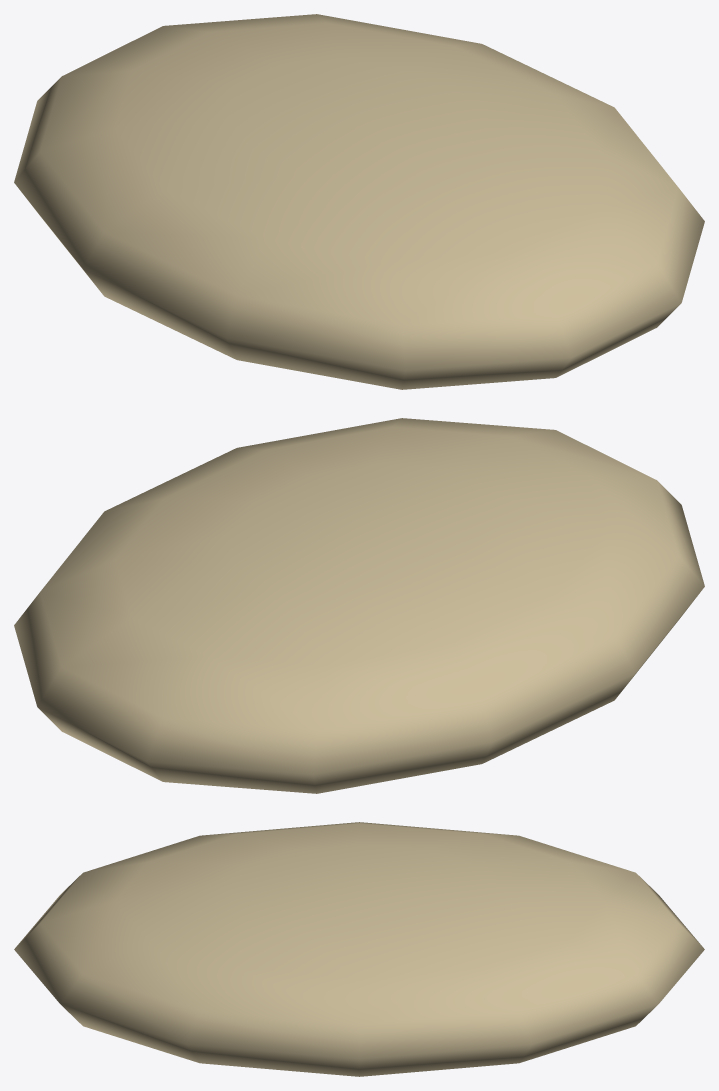
The model's file is SM_HH_Art_Pillow.fbx.
3 views of the same model, one above another, from view 1: azimuth 30°, elevation 25°; view 2: azimuth 150°, elevation 25°; view 3: azimuth 270°, elevation 25° (orthographic). The views are drawn at different scales.
Parts seen in each view (by area): view 1: HH_Art_Pillow; view 2: HH_Art_Pillow; view 3: HH_Art_Pillow.
Part boxes in pixels (bbox=[...]): HH_Art_Pillow: bbox=[14, 14, 704, 389]; HH_Art_Pillow: bbox=[14, 418, 704, 793]; HH_Art_Pillow: bbox=[14, 822, 704, 1076].
Size of the model in its own units: 0.64 by 0.48 by 0.14.
